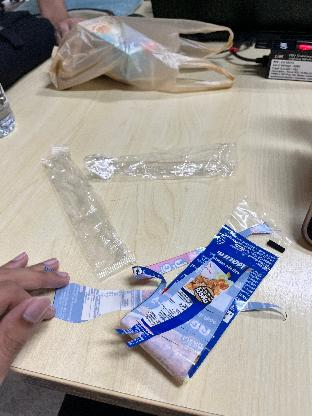Others: (123, 206, 291, 376), (54, 146, 128, 272), (90, 136, 244, 192)
